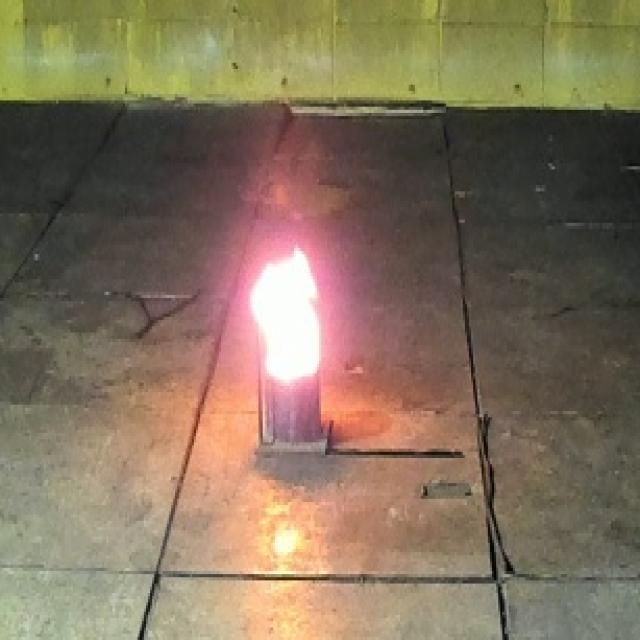Fire: (249, 242, 321, 384)
